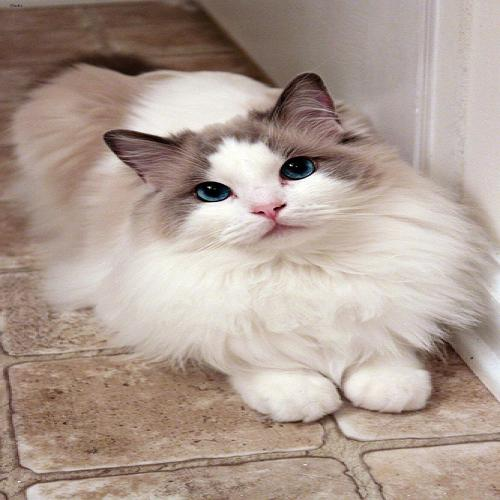ragdoll: (93, 68, 387, 272)
